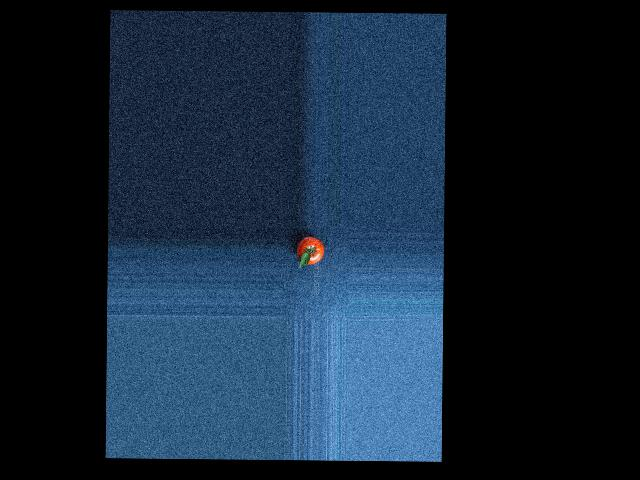tomato: (296, 236, 323, 264)
